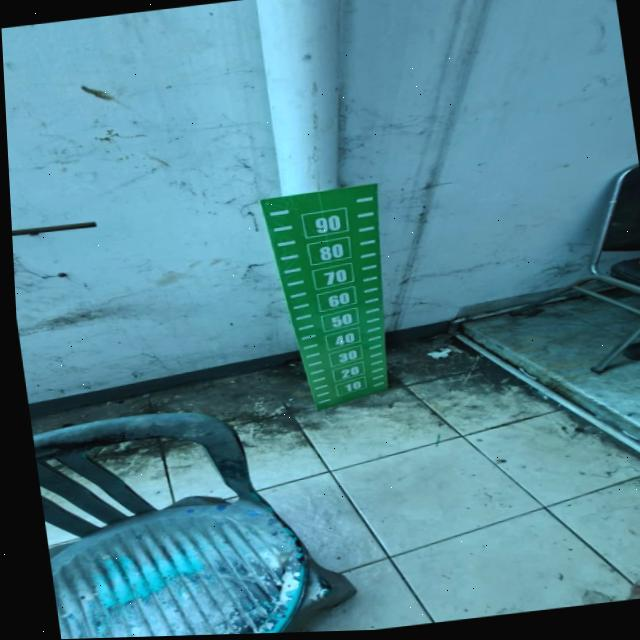water-meter: (241, 169, 426, 418)
